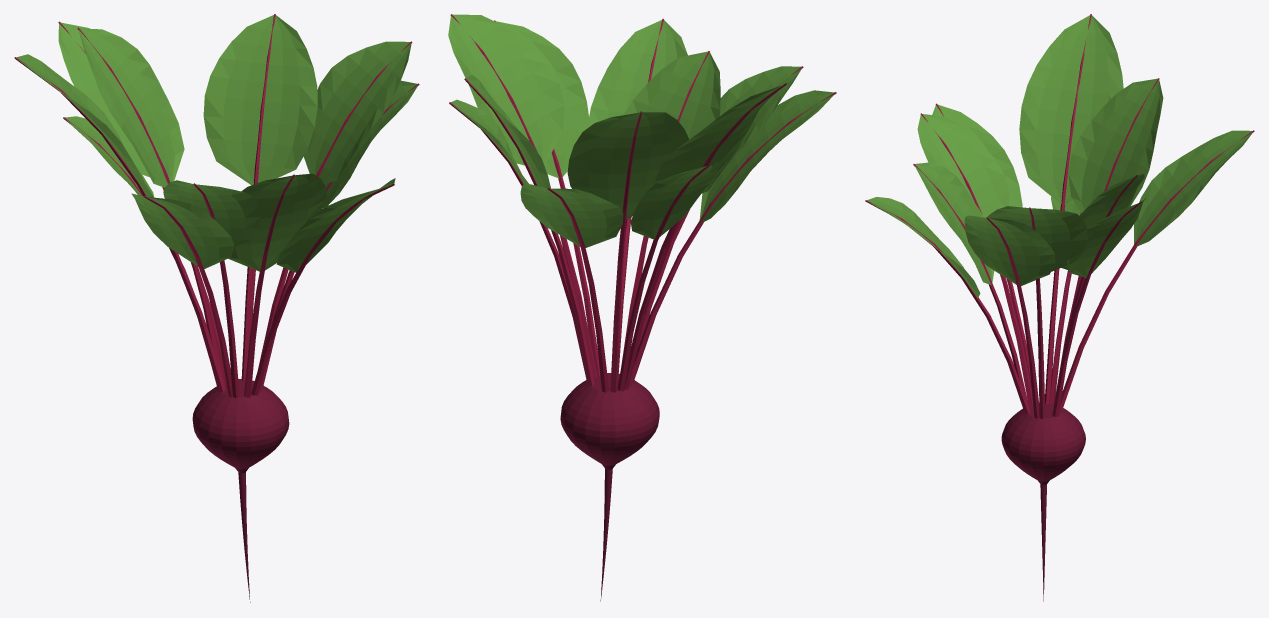
The model's file is beetroot_harvest_v23.glb.
The picture shows the model from 3 angles, left to right: view 1: azimuth 30°, elevation 25°; view 2: azimuth 150°, elevation 25°; view 3: azimuth 270°, elevation 25°; orthographic projection. The views are drawn at different scales.
Visible parts, largest first — view 1: plant; view 2: plant; view 3: plant.
Boxes of the visible parts, bbox=[...] form: plant: bbox=[14, 14, 419, 602]; plant: bbox=[448, 14, 836, 601]; plant: bbox=[865, 14, 1254, 601].
Bounding box in the file's own units: 0.3374 × 0.5138 × 0.3612.
1 material, 1 textured.
